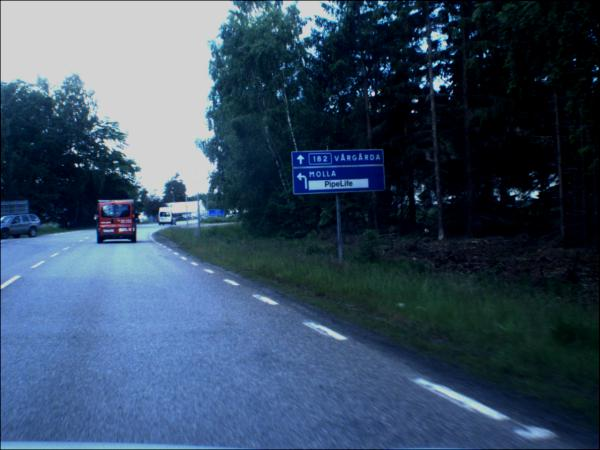PRIORITY_ROAD: (187, 206, 191, 210)
